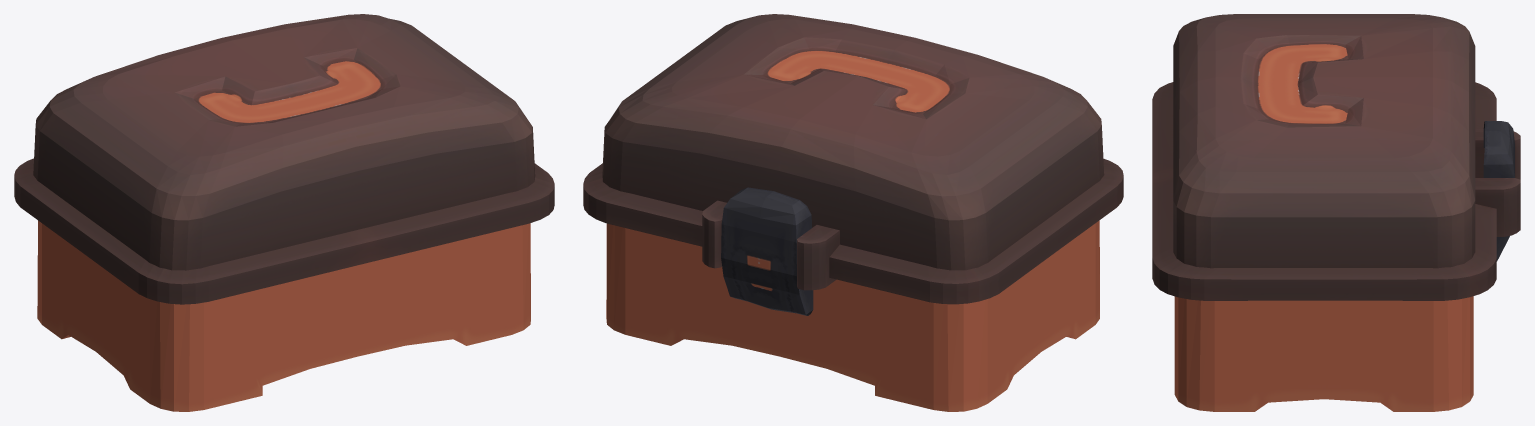
File: P_Toolbox_001_S1_M01.obj
3 views of the same model, side by side, from view 1: azimuth 30°, elevation 25°; view 2: azimuth 150°, elevation 25°; view 3: azimuth 270°, elevation 25° (orthographic).
Size of the model in its own units: 0.7203 by 0.4005 by 0.5536.
Materials: 1 (1 with a texture image).
